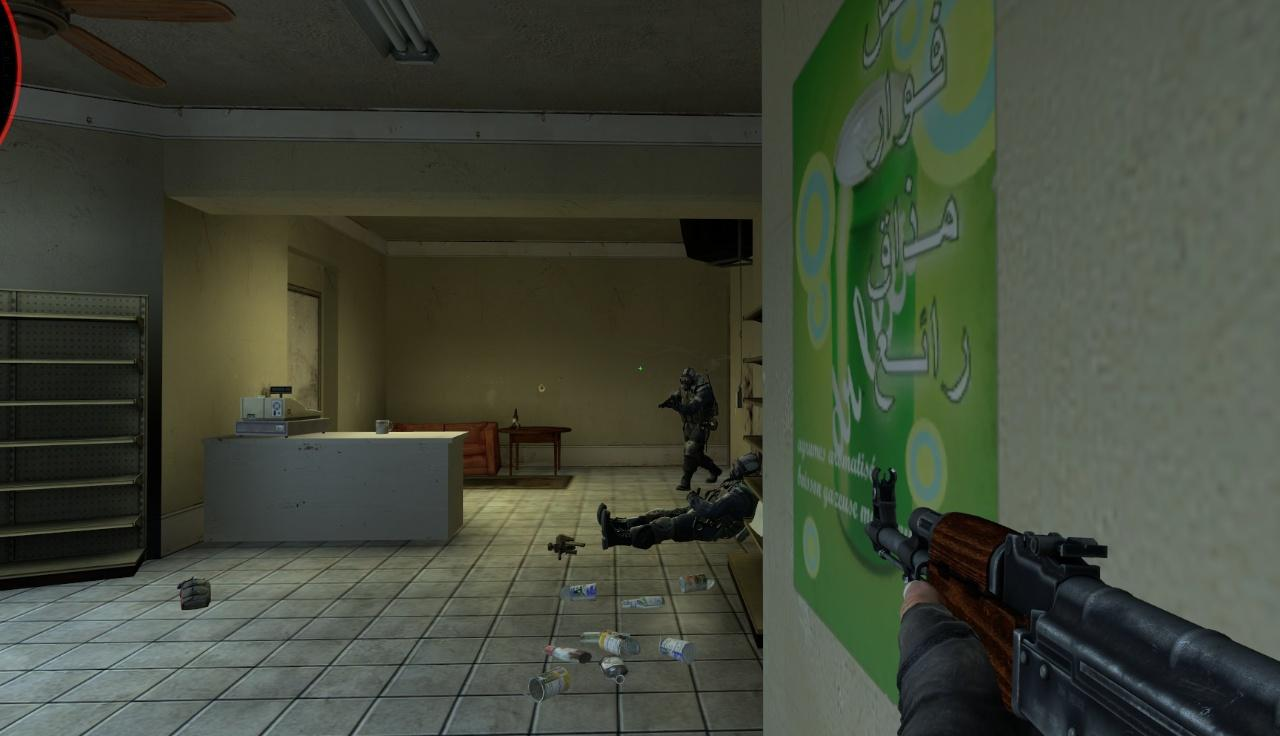ct: (670, 367, 721, 483)
cthead: (679, 367, 696, 391)
rifle: (864, 467, 1280, 736)
